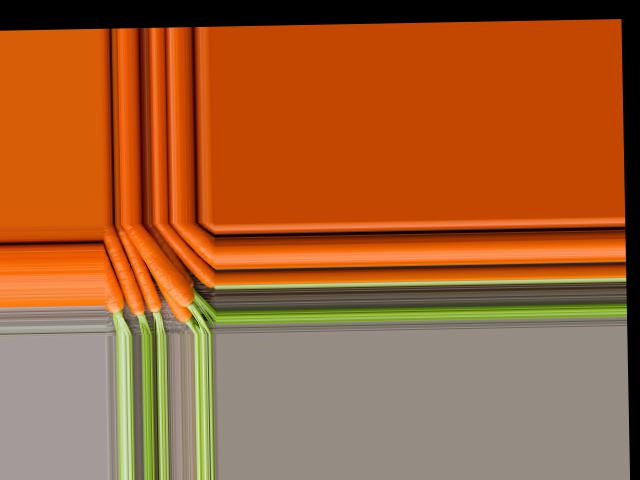carrot: (161, 221, 214, 288)
